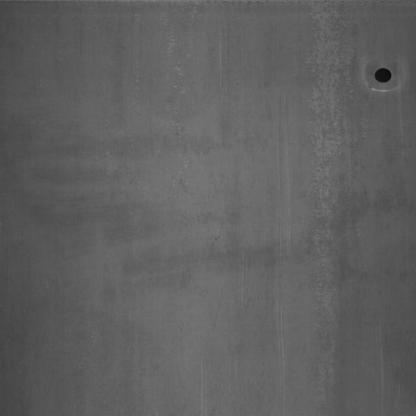punching_hole: (373, 62, 396, 86)
